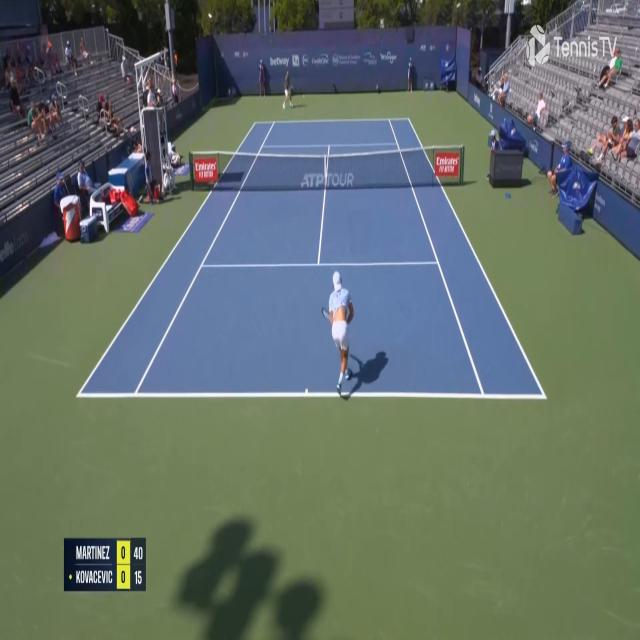tennis-player: (321, 267, 362, 400), (282, 67, 294, 108)
